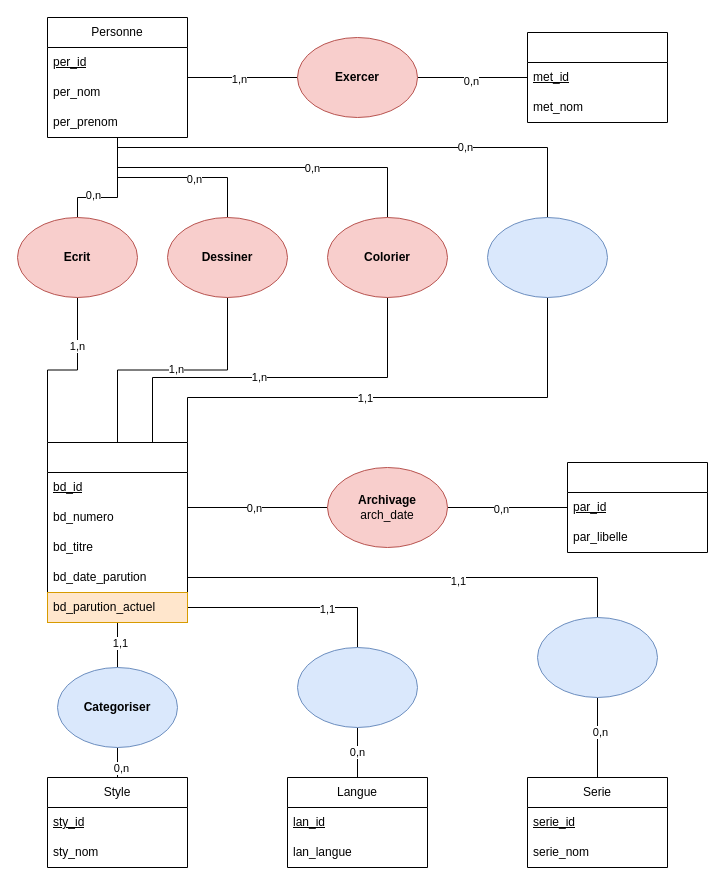
This 725x885 diagram has some shape labels left out. Each missing label, with the box of its shape:
Appartenir: (536, 616, 658, 698)
BD: (46, 442, 188, 622)
BD-Langue: (296, 646, 418, 728)
Editer: (486, 216, 608, 298)
Métier: (526, 32, 668, 122)
Parution: (566, 462, 708, 552)
